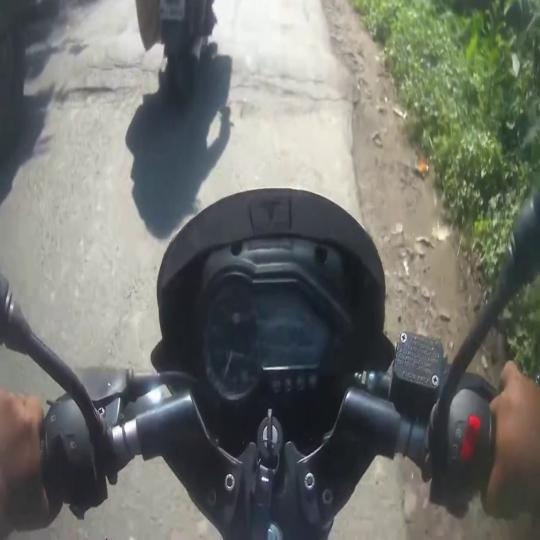Speed Bump: (206, 57, 353, 127), (20, 57, 154, 102)
